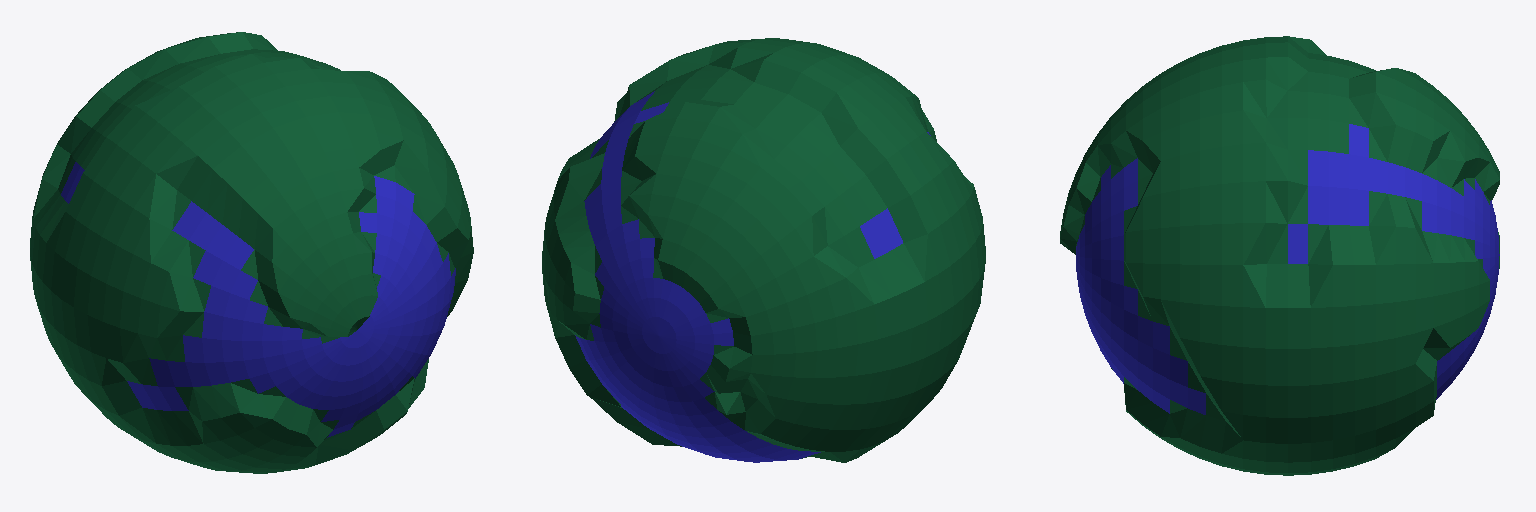
Rendered from mass.obj.
3 views of the same model, side by side, from view 1: azimuth 30°, elevation 25°; view 2: azimuth 150°, elevation 25°; view 3: azimuth 270°, elevation 25° (orthographic).
Parts seen in each view (by area): view 1: Sphere_Sphere_Material.001, Sphere_Sphere_Material.002; view 2: Sphere_Sphere_Material.001, Sphere_Sphere_Material.002; view 3: Sphere_Sphere_Material.001, Sphere_Sphere_Material.002.
Part boxes in pixels (left/top/right/bottom): Sphere_Sphere_Material.001: left=30, top=32, right=473, bottom=473; Sphere_Sphere_Material.002: left=61, top=162, right=455, bottom=437; Sphere_Sphere_Material.001: left=542, top=38, right=985, bottom=462; Sphere_Sphere_Material.002: left=575, top=91, right=930, bottom=462; Sphere_Sphere_Material.001: left=1060, top=36, right=1499, bottom=475; Sphere_Sphere_Material.002: left=1076, top=124, right=1499, bottom=414.
Size of the model in its own units: 1 by 1 by 1.